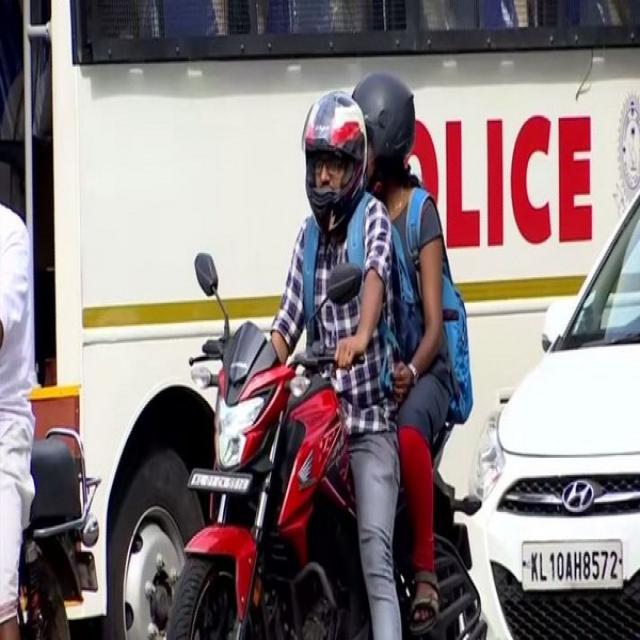helmet: (347, 59, 440, 211), (291, 86, 364, 224)
